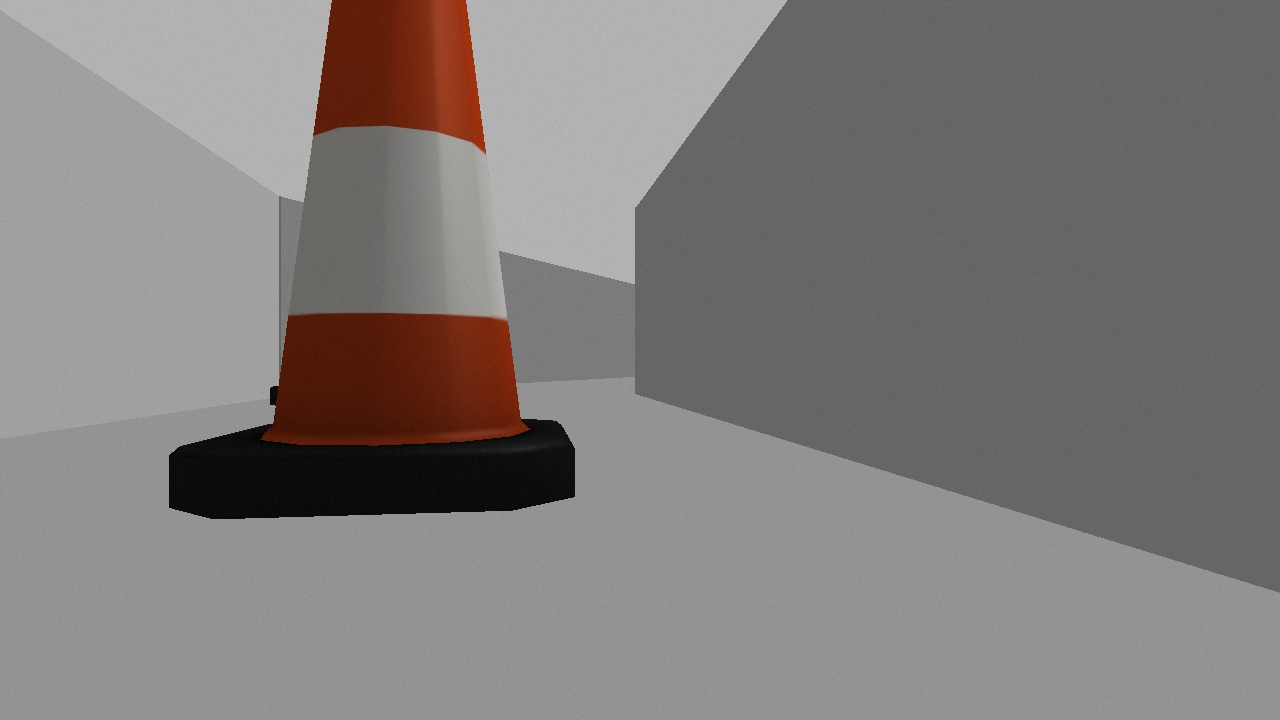barricade: (169, 1, 575, 520)
